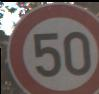Speed Limit -50-: (0, 1, 99, 94)
